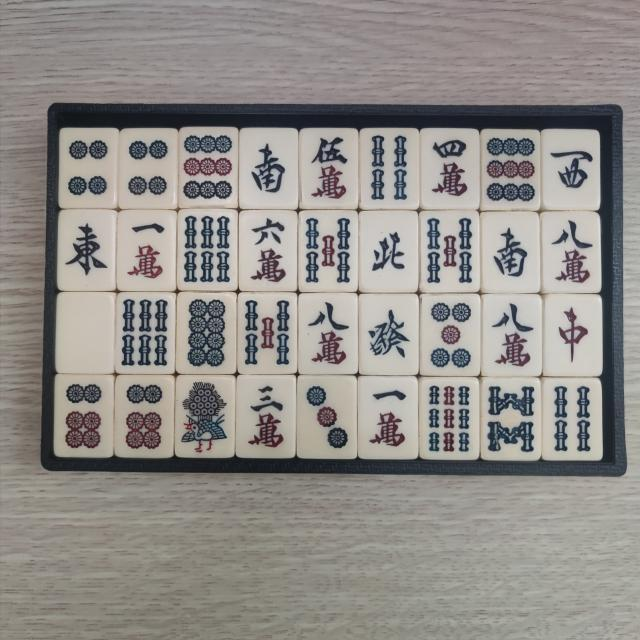hdg: (364, 300, 414, 370)
hdr: (550, 302, 596, 374)
hdw: (63, 298, 109, 367)
hwe: (61, 216, 110, 286)
hwn: (364, 216, 411, 286)
hws: (246, 132, 295, 202), (488, 219, 536, 288)
hww: (547, 136, 596, 206)
sb1: (178, 380, 230, 456)
sb4: (368, 130, 416, 203), (548, 384, 595, 456)
sb5: (424, 214, 474, 288), (305, 212, 355, 286), (241, 295, 291, 368)
sb6: (182, 213, 234, 286), (118, 299, 169, 372)
sb8: (488, 383, 538, 456)
sb9: (426, 384, 474, 456)
sc1: (364, 382, 412, 452), (124, 216, 170, 286)
sc3: (243, 381, 291, 454)
sc4: (426, 133, 474, 204)
sc5: (305, 133, 353, 204)
sc6: (246, 215, 292, 288)
sc8: (486, 301, 536, 373), (306, 299, 355, 372), (548, 216, 596, 286)
sd3: (304, 381, 353, 454)
sd4: (124, 135, 173, 204), (66, 134, 114, 203)
sd5: (429, 300, 477, 372)
sd6: (61, 381, 107, 454), (122, 379, 168, 452)
sd8: (184, 298, 232, 370)
sd9: (182, 131, 235, 202), (484, 133, 536, 204)
